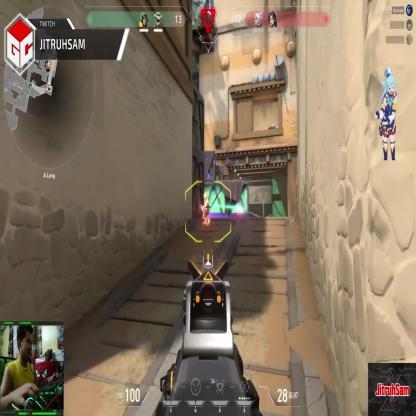enemy: (202, 193, 210, 225)
enemy_head: (203, 193, 208, 200)
